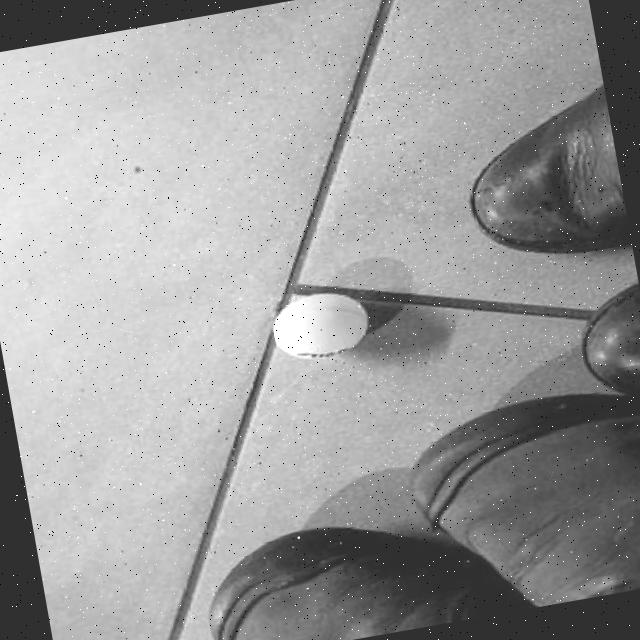ping-pong-ball: (263, 284, 373, 366)
